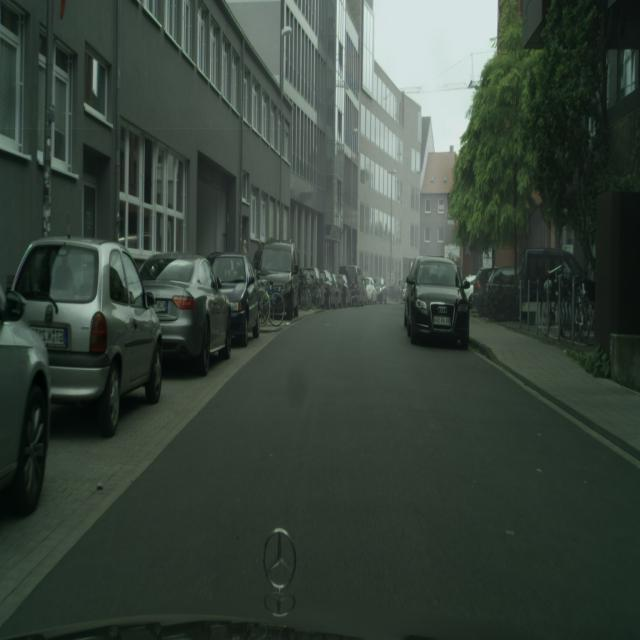car: (257, 278, 284, 328)
truck: (10, 235, 163, 439), (0, 284, 52, 517), (139, 252, 232, 376), (403, 256, 471, 349), (207, 251, 261, 346), (254, 238, 301, 319), (482, 267, 519, 319), (338, 264, 366, 306), (300, 267, 320, 307), (320, 269, 339, 309), (335, 272, 349, 308), (363, 276, 377, 304), (375, 276, 388, 304)
